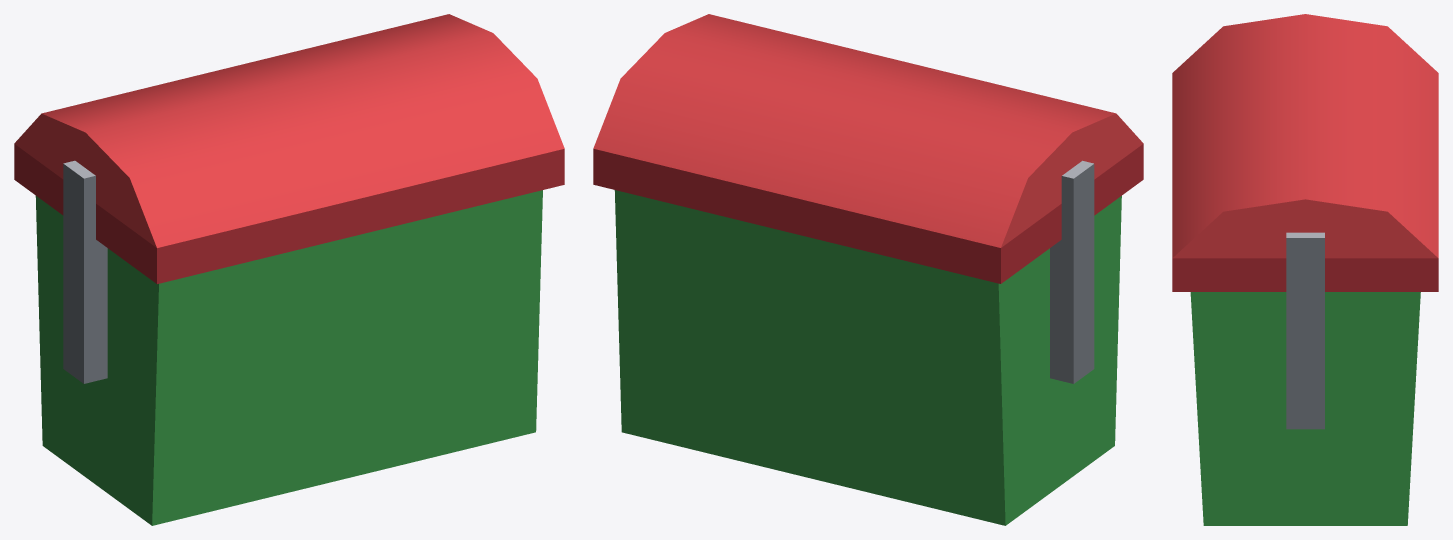
Rendered from trash_can_04_pacote.glb.
3 views of the same model, side by side, from view 1: azimuth 30°, elevation 25°; view 2: azimuth 150°, elevation 25°; view 3: azimuth 270°, elevation 25° (orthographic). The views are drawn at different scales.
Parts seen in each view (by area): view 1: trash_can_04_pacote; view 2: trash_can_04_pacote; view 3: trash_can_04_pacote.
Boxes of the visible parts, x1,y1,x2,y2 form: trash_can_04_pacote: [14, 14, 564, 525]; trash_can_04_pacote: [593, 14, 1143, 525]; trash_can_04_pacote: [1172, 14, 1438, 525].
Size of the model in its own units: 2.08 by 1.65 by 1.2.
Materials: 1 (1 with a texture image).
